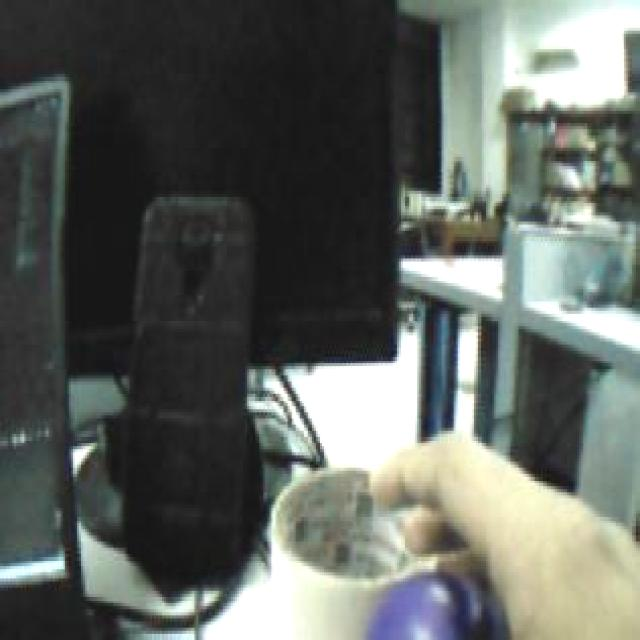BallPurple: (365, 569, 492, 640)
